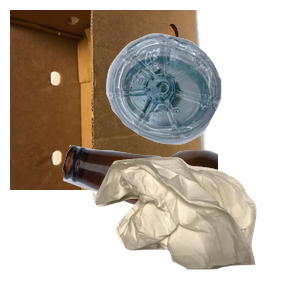cardboard: (10, 10, 211, 190)
glass: (60, 142, 300, 300)
plastic: (104, 31, 300, 168)
trash: (90, 155, 300, 300)
